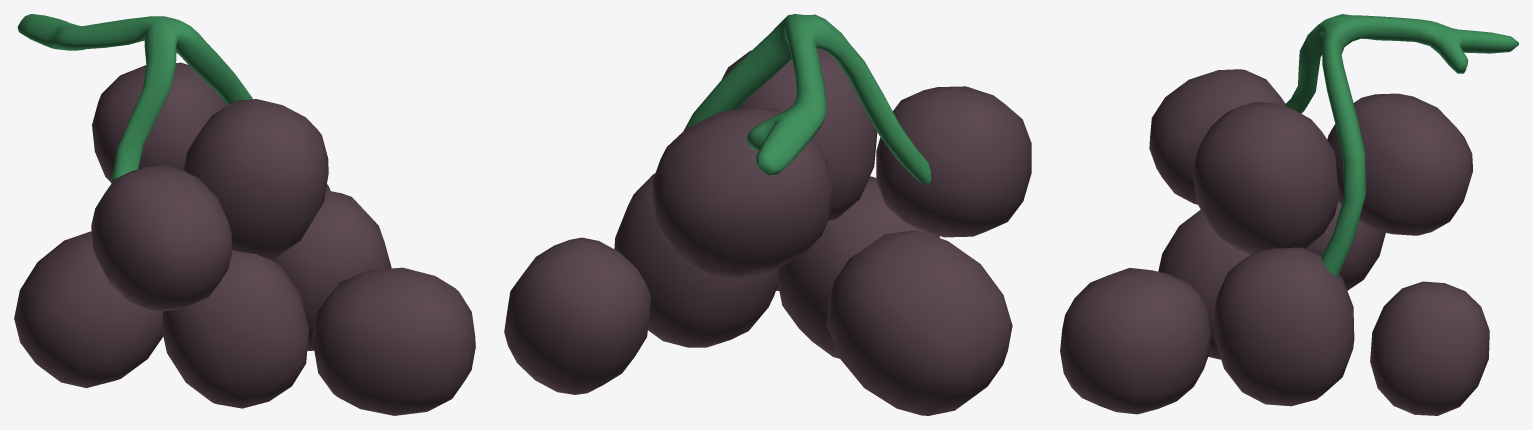
Rendered from Grape_04.dae.
3 views of the same model, side by side, from view 1: azimuth 30°, elevation 25°; view 2: azimuth 150°, elevation 25°; view 3: azimuth 270°, elevation 25° (orthographic). The views are drawn at different scales.
Parts seen in each view (by area): view 1: Grape_04_LOD0; view 2: Grape_04_LOD0; view 3: Grape_04_LOD0.
Part boxes in pixels (x1=…): Grape_04_LOD0: x1=14, y1=14, x2=475, y2=415; Grape_04_LOD0: x1=504, y1=14, x2=1031, y2=415; Grape_04_LOD0: x1=1060, y1=14, x2=1518, y2=415.
Size of what is drawn, in the model's own units: 3.81 by 4.3 by 3.42.
